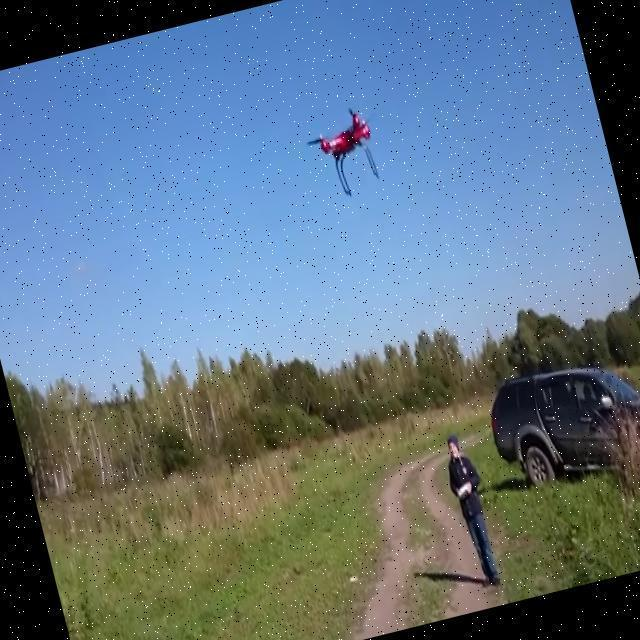Drons: (294, 100, 394, 204)
